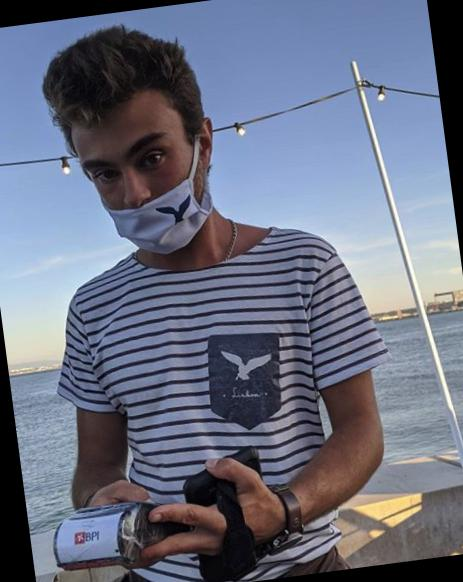mask_weared_incorrect: (73, 128, 228, 259)
